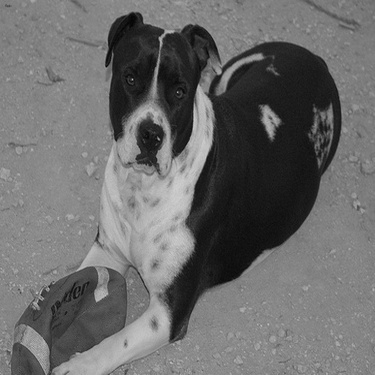dog: (30, 6, 344, 369)
